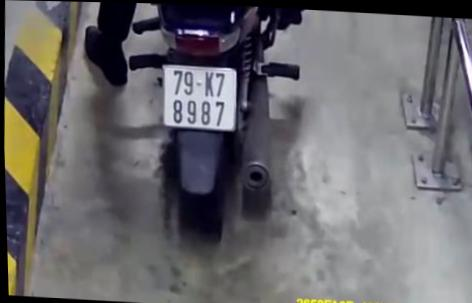LP: (158, 61, 240, 132)
